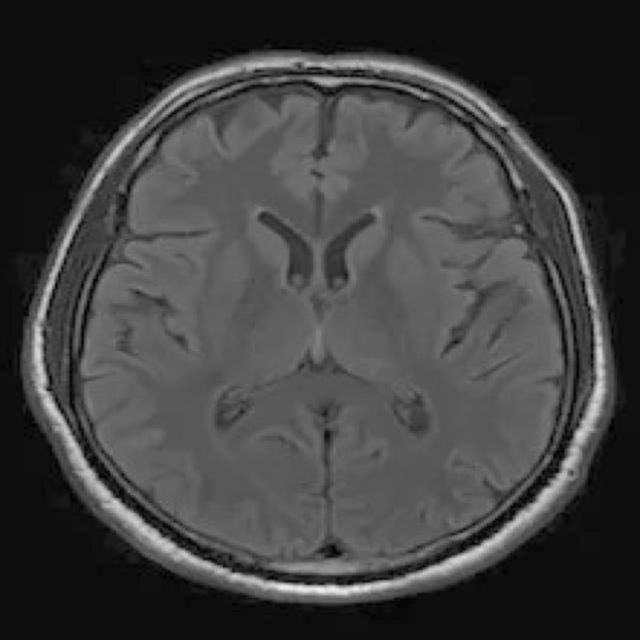glioma tumor: (139, 107, 501, 521)
